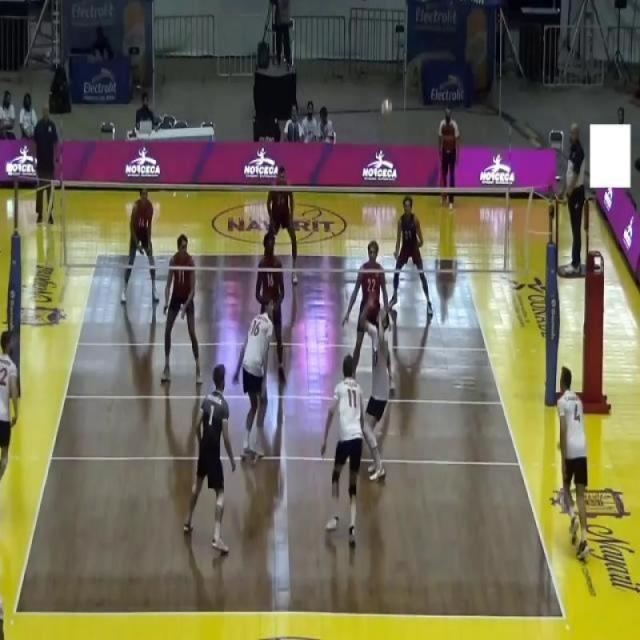volleyball: (380, 98, 393, 118)
